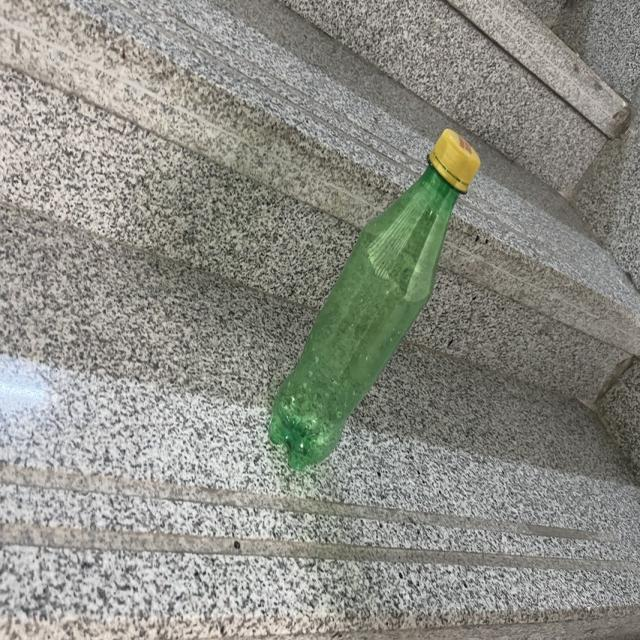empty: (269, 129, 479, 468)
